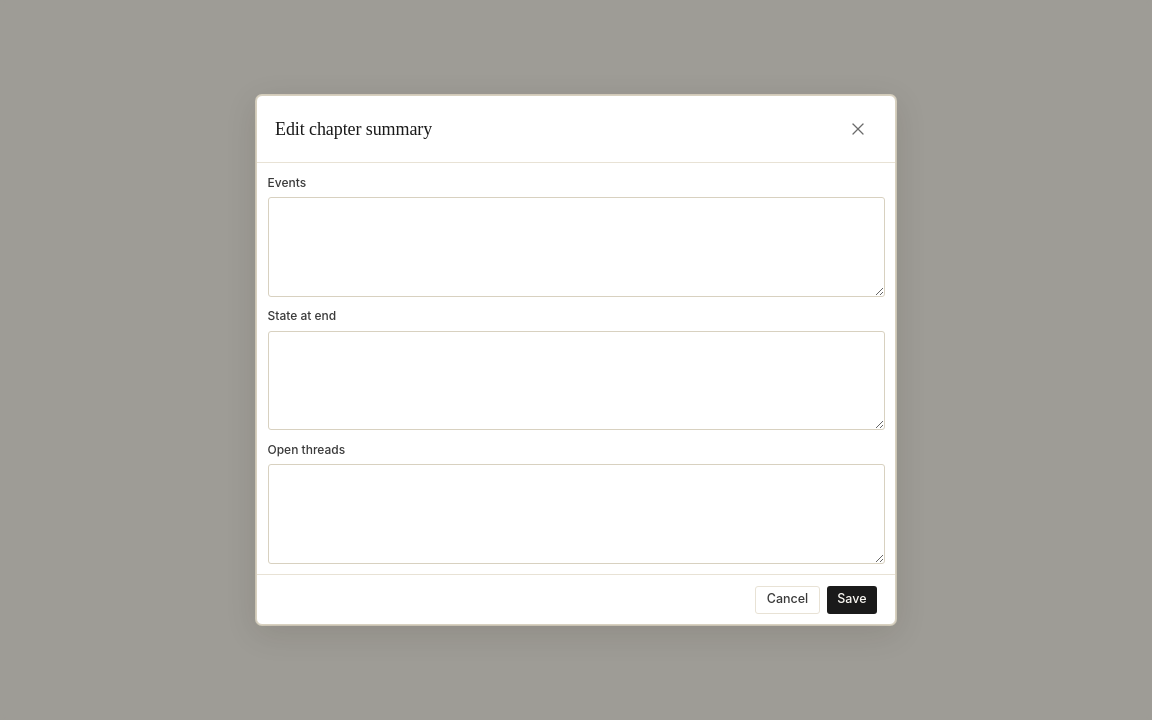
ChapterSummarySheet › shows error message and keeps modal open on submit failure
The image size is (1152, 720).
Click the button "Save". click: point(852, 600)
box: [827, 586, 877, 614]
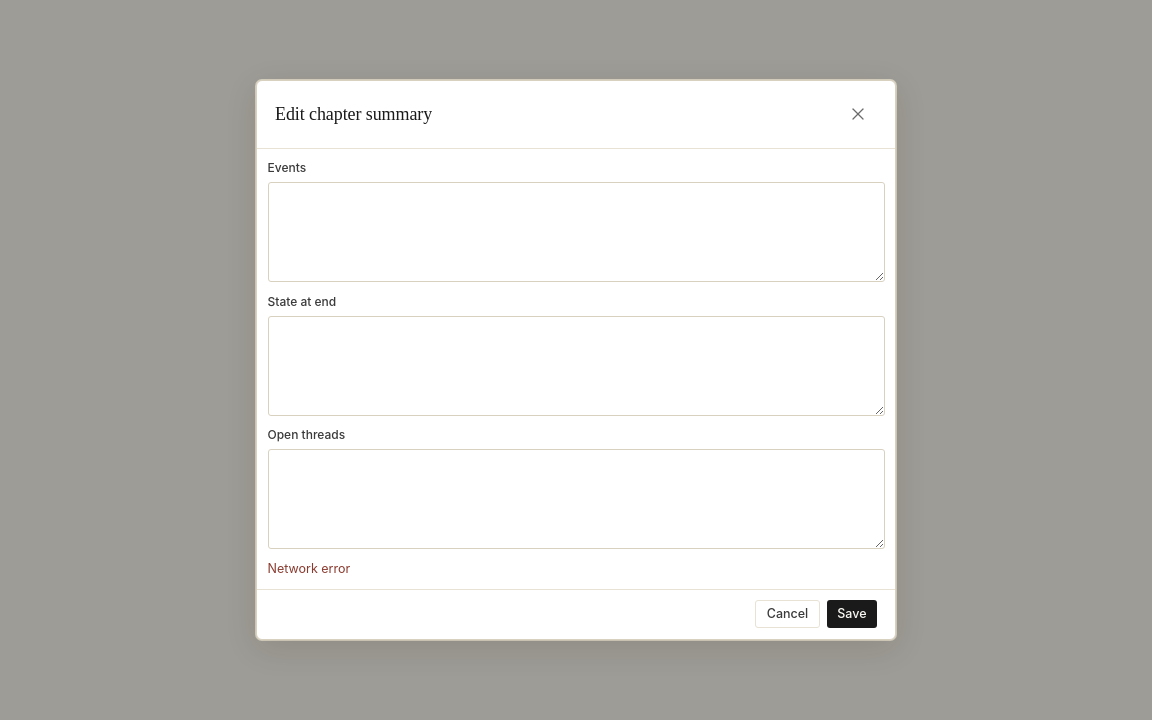
Check: the button "Save" is enabled, box [827, 600, 877, 628]
Check: the message "Network error" is shown, box [268, 560, 350, 576]
